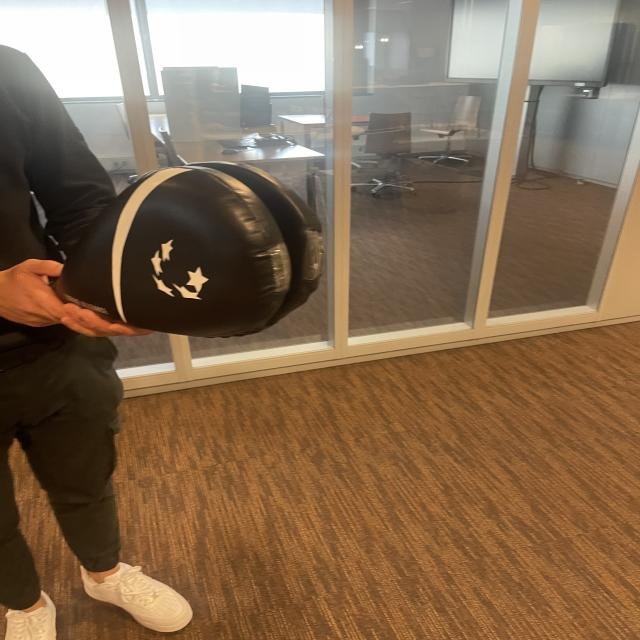paddle: (94, 162, 327, 332)
